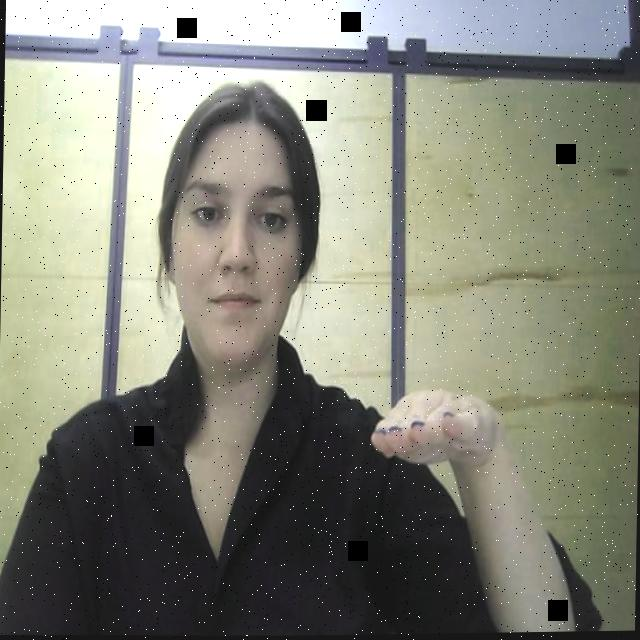Paper: (366, 373, 491, 480)
